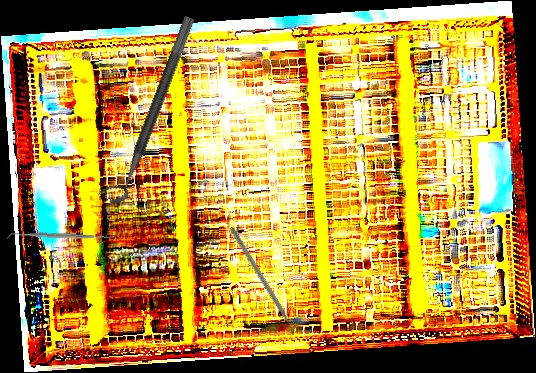Chopper: (224, 226, 299, 341)
Fixation Ring: (95, 9, 197, 209)
Spatula Surgical: (5, 228, 118, 244)
